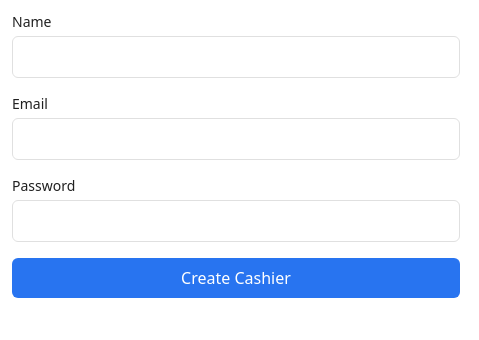
it: CreateCashierForm › shows validation error when email is empty
The image size is (479, 340).
In the field labelled "Name": (236, 57) [12,36,460,78], type "Test Cashier"
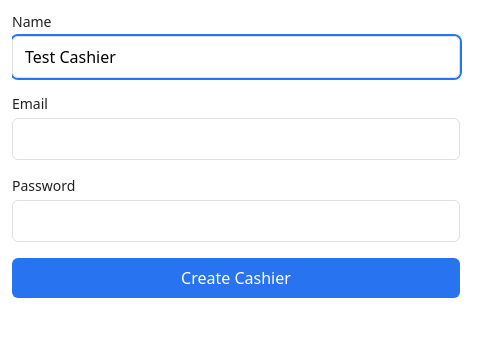
In the password field labelled "Password": (236, 221) [12,200,460,242], type "SecurePass123!"
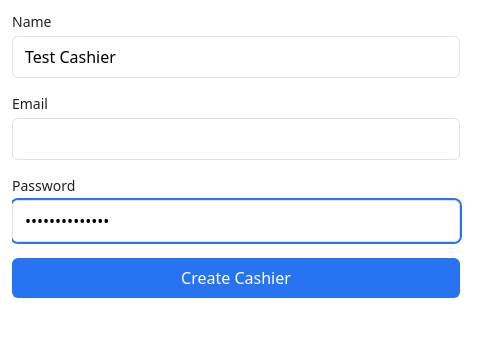
Click the button "Create Cashier": (236, 278) [12,258,460,298]
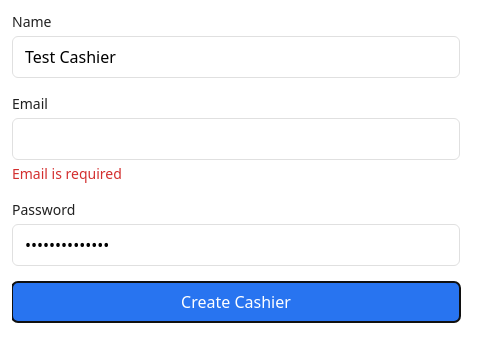
Check: the text "Email is required" is shown, box [12,164,122,183]
